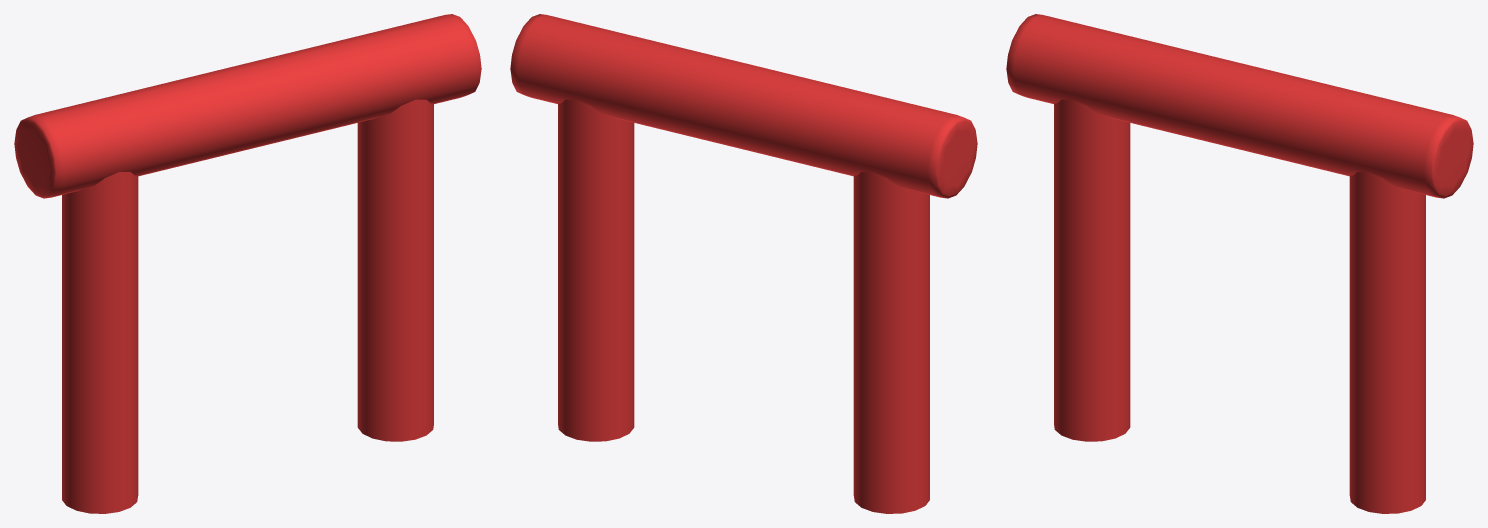
The model's file is LeverHandle.fbx.
3 renders of one model, left to right at view 1: azimuth 30°, elevation 25°; view 2: azimuth 150°, elevation 25°; view 3: azimuth 330°, elevation 25°, orthographic.
Visible parts, largest first — view 1: LeverHandle; view 2: LeverHandle; view 3: LeverHandle.
Boxes of the visible parts, box(x1,y1,x2,y2) form: LeverHandle: box(14, 14, 481, 513); LeverHandle: box(510, 14, 977, 513); LeverHandle: box(1006, 14, 1473, 513).
Bounding box in the file's own units: 33.74 × 29.69 × 5.8.
